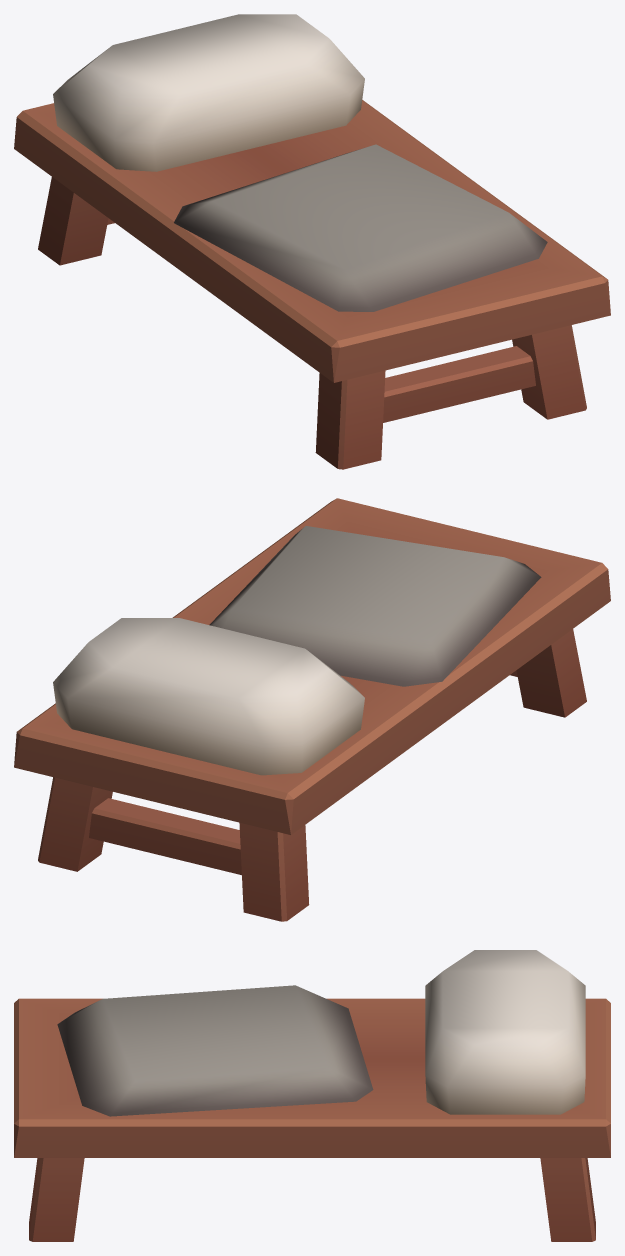
The model's file is cc0-bed-frame-lod1.glb.
3 views of the same model, one above another, from view 1: azimuth 30°, elevation 25°; view 2: azimuth 150°, elevation 25°; view 3: azimuth 270°, elevation 25° (orthographic). The views are drawn at different scales.
Parts seen in each view (by area): view 1: part_0; view 2: part_0; view 3: part_0.
Part boxes in pixels (<box>): part_0: <box>14,14,610,469</box>; part_0: <box>14,498,610,921</box>; part_0: <box>14,950,610,1241</box>.
Size of the model in its own units: 1.5 by 1.04 by 3.
1 material, 1 textured.
